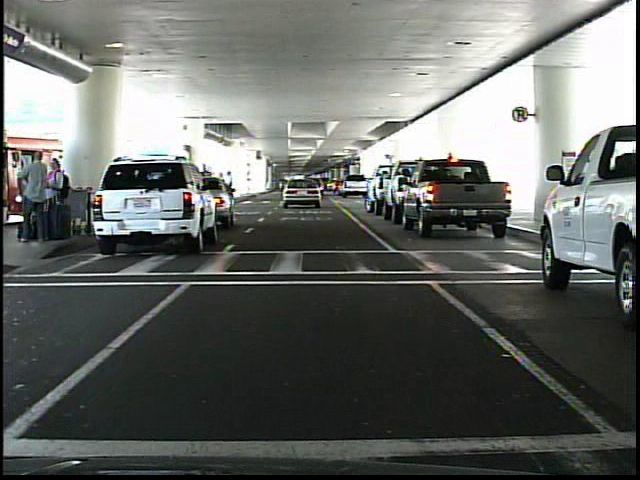person: (17, 149, 51, 245), (46, 157, 71, 244)
